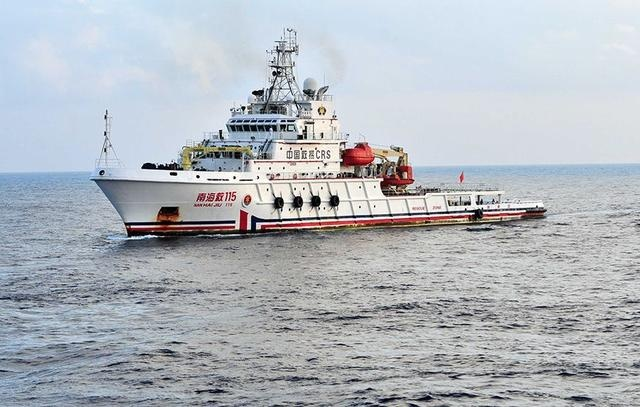warship: (85, 24, 552, 240)
